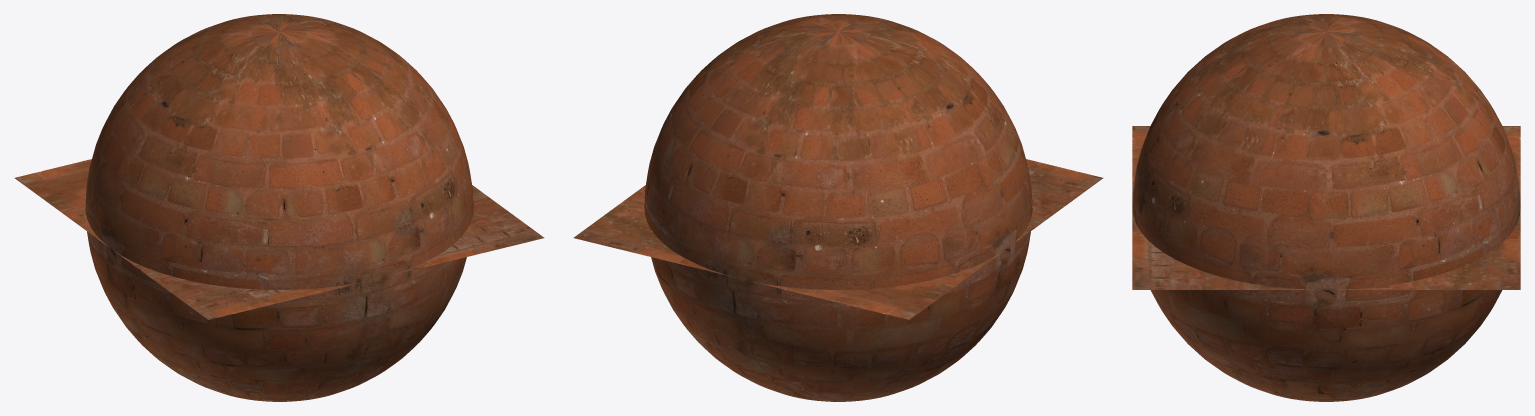
File: broken_brick.glb
3 renders of one model, left to right at view 1: azimuth 30°, elevation 25°; view 2: azimuth 150°, elevation 25°; view 3: azimuth 270°, elevation 25°, orthographic.
Parts seen in each view (by area): view 1: Sphere, Plane; view 2: Sphere, Plane; view 3: Sphere, Plane.
Boxes of the visible parts, x1=… form: Sphere: x1=85, y1=14, x2=473, y2=401; Plane: x1=14, y1=159, x2=544, y2=319; Sphere: x1=644, y1=14, x2=1032, y2=401; Plane: x1=573, y1=159, x2=1103, y2=319; Sphere: x1=1132, y1=14, x2=1520, y2=401; Plane: x1=1132, y1=126, x2=1520, y2=289.
Bounding box in the file's own units: 1.8 × 1.8 × 1.8.
1 material, 1 textured.
